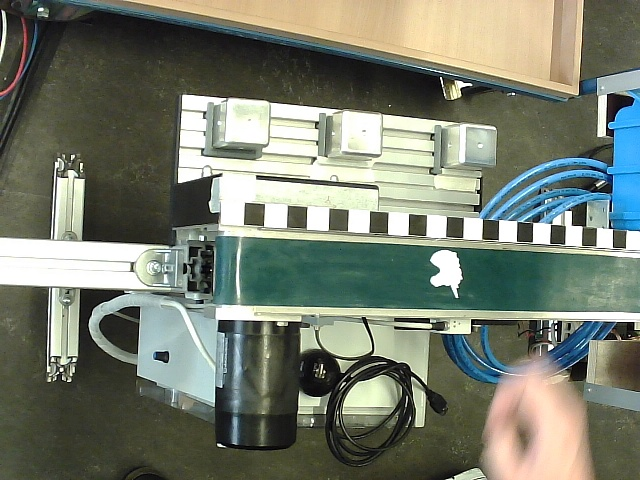unicorn: (429, 249, 464, 300)
